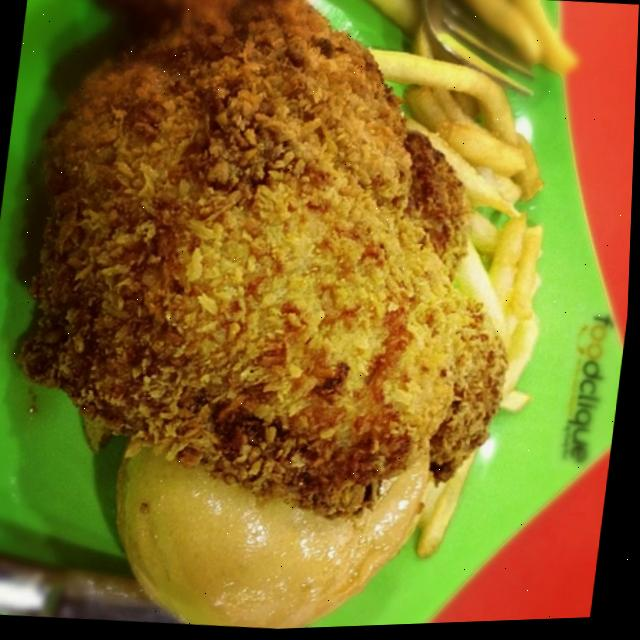鸡肉料理 含炸鸡: (0, 0, 589, 535)
